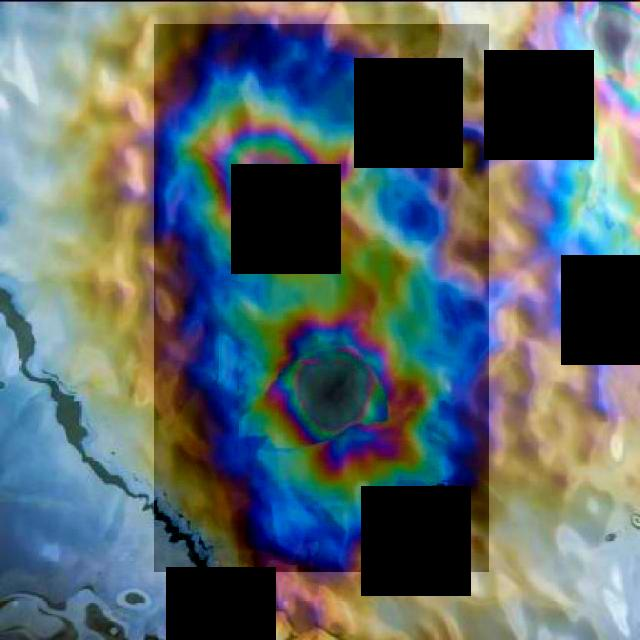oil spill: (154, 24, 489, 572)
